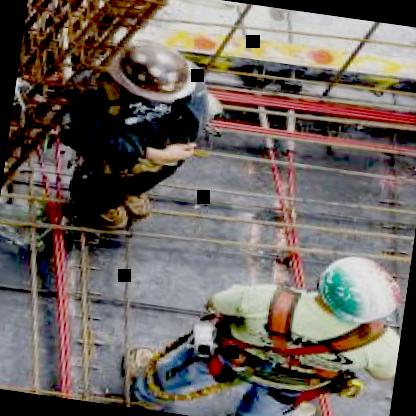helmet: (88, 30, 212, 110), (308, 250, 410, 333)
